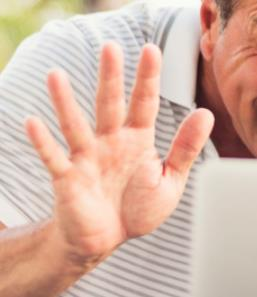down: (23, 41, 216, 255)
